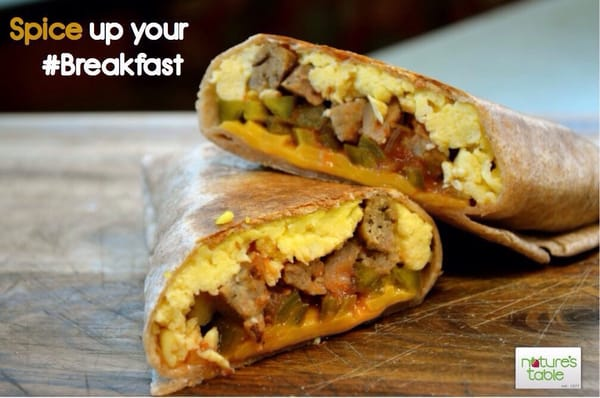soup: (138, 152, 444, 389)
